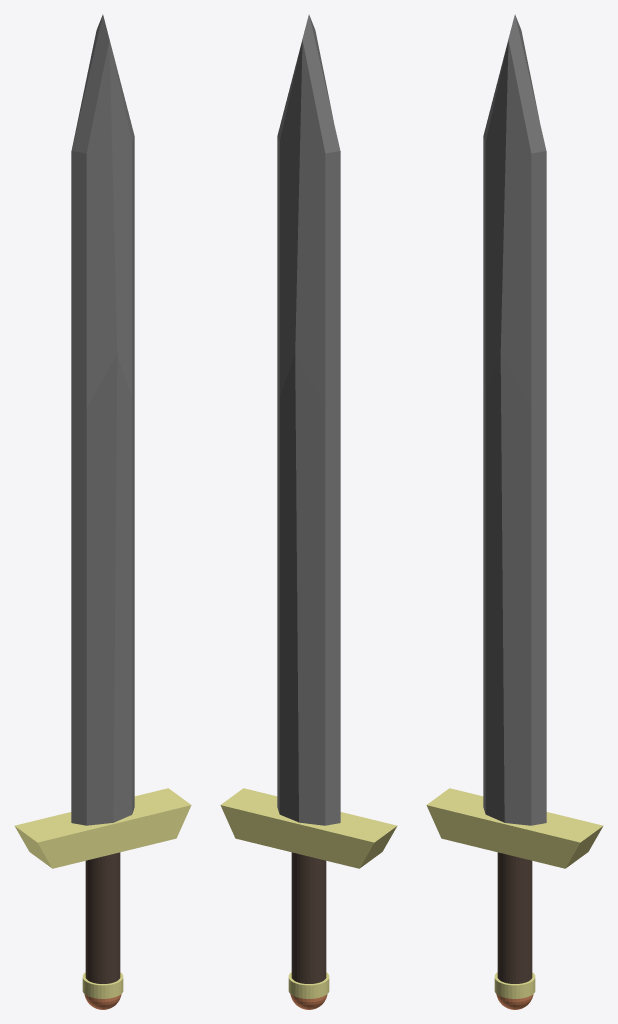
Rendered from WeaponSword.fbx.
3 renders of one model, left to right at view 1: azimuth 30°, elevation 25°; view 2: azimuth 150°, elevation 25°; view 3: azimuth 330°, elevation 25°, orthographic.
Parts seen in each view (by area): view 1: Sword; view 2: Sword; view 3: Sword.
Part boxes in pixels (x1,y1,x2,y2): Sword: (14,14,191,1009); Sword: (220,14,397,1009); Sword: (426,14,603,1009).
Size of the model in its own units: 14.91 by 91.97 by 4.72.
